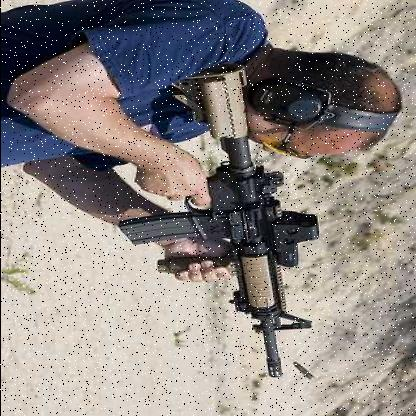rifle: (94, 61, 356, 387)
